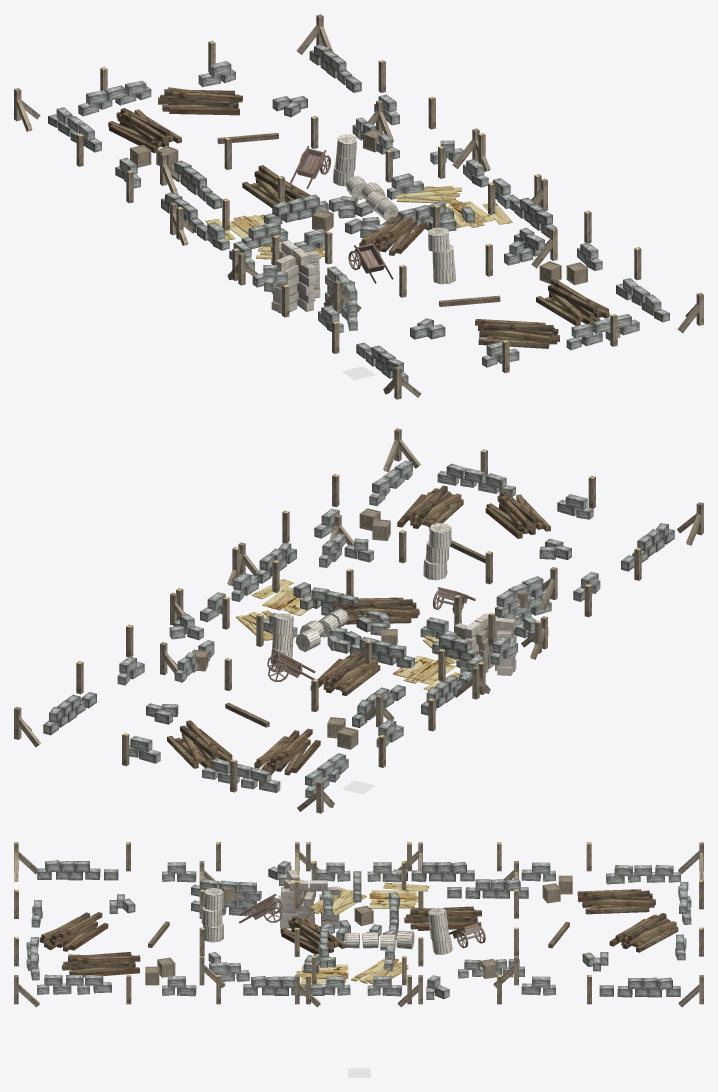
Rendered from fndn_7x15_hele.glb.
3 views of the same model, one above another, from view 1: azimuth 30°, elevation 25°; view 2: azimuth 150°, elevation 25°; view 3: azimuth 270°, elevation 25° (orthographic). The views are drawn at different scales.
Visible parts, largest first — view 1: fndn_7x15_hele_part164, fndn_7x15_hele_part173, fndn_7x15_hele_part18, fndn_7x15_hele_part83, fndn_7x15_hele_part17, fndn_7x15_hele_part82, fndn_7x15_hele_part167, fndn_7x15_hele_part117, fndn_7x15_hele_part52, fndn_7x15_hele_part162, fndn_7x15_hele_part168, fndn_7x15_hele_part104 (+12 smaller); view 2: fndn_7x15_hele_part173, fndn_7x15_hele_part164, fndn_7x15_hele_part82, fndn_7x15_hele_part18, fndn_7x15_hele_part17, fndn_7x15_hele_part168, fndn_7x15_hele_part83, fndn_7x15_hele_part155, fndn_7x15_hele_part167, fndn_7x15_hele_part52, fndn_7x15_hele_part117, fndn_7x15_hele_part162 (+11 smaller); view 3: fndn_7x15_hele_part173, fndn_7x15_hele_part164, fndn_7x15_hele_part82, fndn_7x15_hele_part17, fndn_7x15_hele_part18, fndn_7x15_hele_part83, fndn_7x15_hele_part155, fndn_7x15_hele_part39, fndn_7x15_hele_part168, fndn_7x15_hele_part104, fndn_7x15_hele_part167, fndn_7x15_hele_part162 (+19 smaller).
Boxes of the visible parts, bbox=[...] form: fndn_7x15_hele_part164: bbox=[271, 240, 320, 313]; fndn_7x15_hele_part173: bbox=[333, 134, 398, 220]; fndn_7x15_hele_part18: bbox=[475, 319, 559, 348]; fndn_7x15_hele_part83: bbox=[158, 87, 242, 115]; fndn_7x15_hele_part17: bbox=[536, 279, 609, 325]; fndn_7x15_hele_part82: bbox=[108, 108, 181, 153]; fndn_7x15_hele_part167: bbox=[359, 215, 426, 255]; fndn_7x15_hele_part117: bbox=[78, 80, 151, 116]; fndn_7x15_hele_part52: bbox=[566, 314, 639, 350]; fndn_7x15_hele_part162: bbox=[428, 227, 455, 284]; fndn_7x15_hele_part168: bbox=[242, 165, 310, 207]; fndn_7x15_hele_part104: bbox=[48, 107, 101, 152]; fndn_7x15_hele_part173: bbox=[270, 608, 348, 664]; fndn_7x15_hele_part164: bbox=[454, 613, 516, 675]; fndn_7x15_hele_part82: bbox=[254, 728, 320, 775]; fndn_7x15_hele_part18: bbox=[485, 491, 550, 538]; fndn_7x15_hele_part17: bbox=[397, 485, 463, 530]; fndn_7x15_hele_part168: bbox=[310, 650, 380, 695]; fndn_7x15_hele_part83: bbox=[167, 720, 232, 768]; fndn_7x15_hele_part155: bbox=[495, 576, 551, 624]; fndn_7x15_hele_part167: bbox=[333, 597, 419, 624]; fndn_7x15_hele_part52: bbox=[437, 463, 515, 496]; fndn_7x15_hele_part117: bbox=[202, 758, 280, 792]; fndn_7x15_hele_part162: bbox=[423, 523, 451, 580]; fndn_7x15_hele_part173: bbox=[344, 907, 452, 954]; fndn_7x15_hele_part164: bbox=[278, 870, 340, 928]; fndn_7x15_hele_part82: bbox=[577, 889, 655, 914]; fndn_7x15_hele_part17: bbox=[62, 952, 140, 977]; fndn_7x15_hele_part18: bbox=[39, 912, 108, 951]; fndn_7x15_hele_part83: bbox=[609, 913, 678, 952]; fndn_7x15_hele_part155: bbox=[191, 878, 261, 916]; fndn_7x15_hele_part39: bbox=[37, 974, 111, 994]; fndn_7x15_hele_part168: bbox=[404, 906, 481, 930]; fndn_7x15_hele_part104: bbox=[606, 865, 680, 884]; fndn_7x15_hele_part167: bbox=[280, 916, 344, 953]; fndn_7x15_hele_part162: bbox=[201, 888, 223, 942].
Size of the model in its own units: 5.97 by 3.74 by 12.9.
7 materials, 7 textured.
